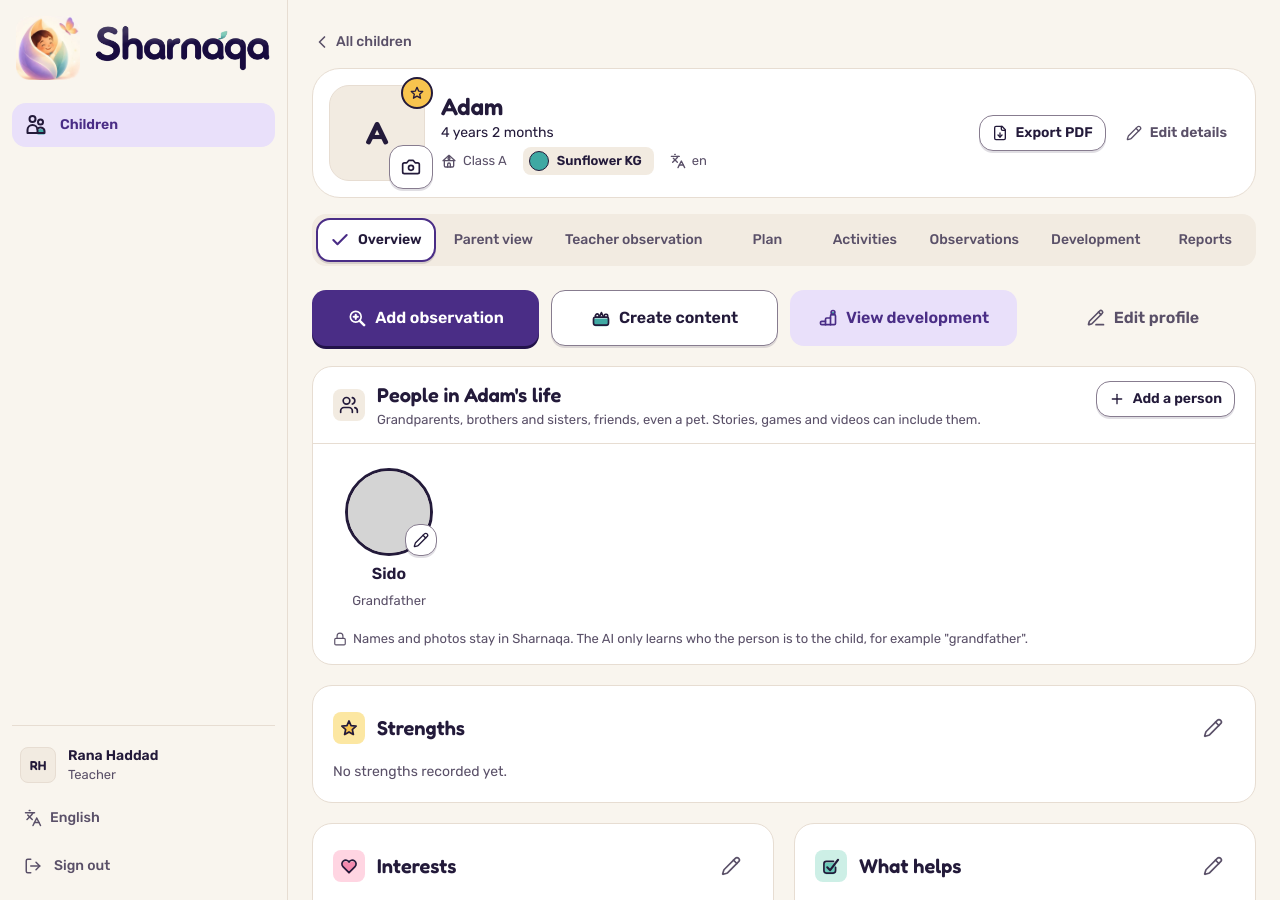
Scenario: PeopleCard on the child Overview › lists the people with their photo or relation icon, and adds a new one
Expected: the heading "People in Adam's life" is shown, x1=377 y1=383 x2=561 y2=407
Expected: the button with test id "person-tile" shows "Sido", x1=333 y1=460 x2=445 y2=618
Click the button with test id "people-add" at (1165, 399), box x1=1096 y1=381 x2=1235 y2=417
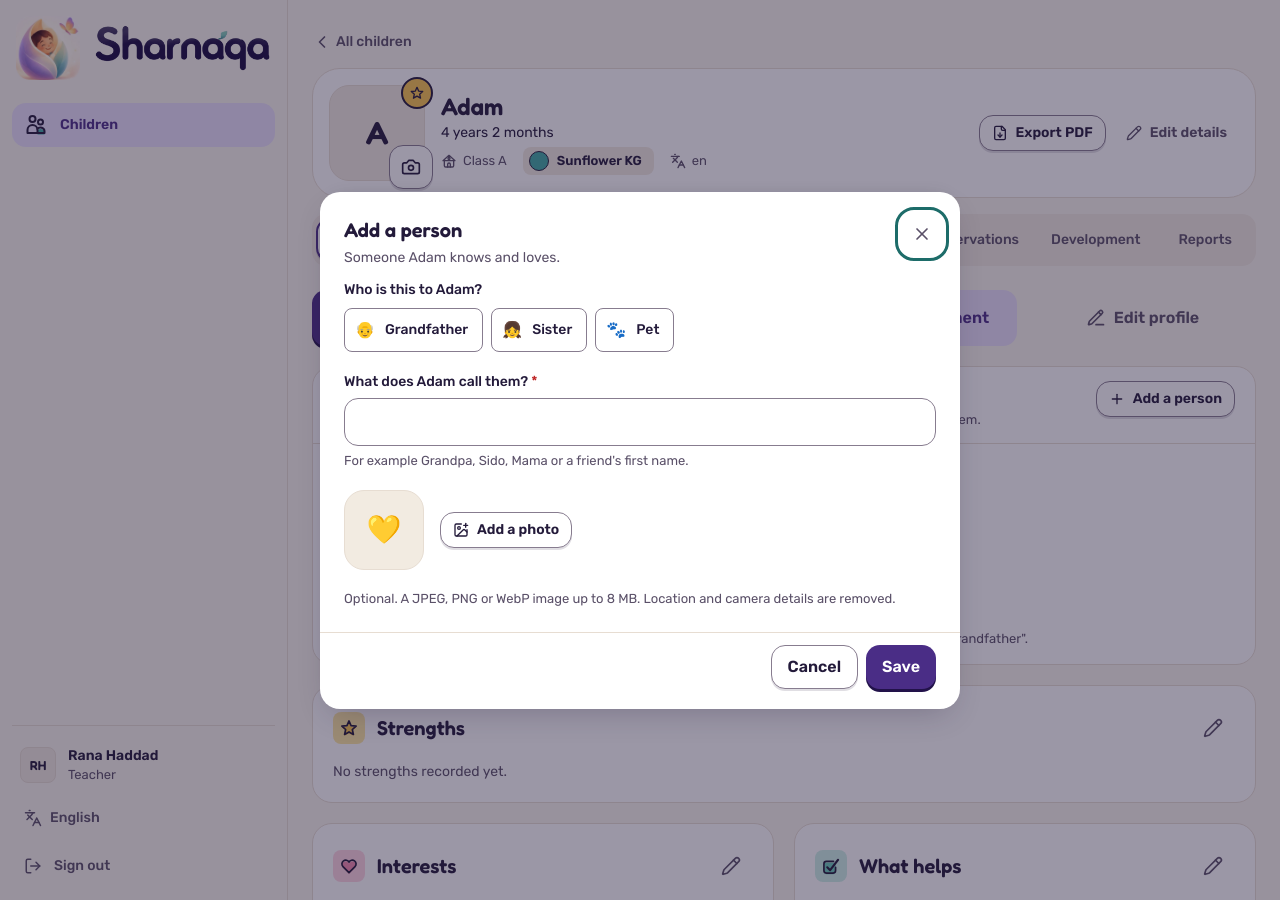
Note: Both a relation and a name are needed.
Click the button with test id "person-save" at (901, 666), box x1=866 y1=644 x2=936 y2=688
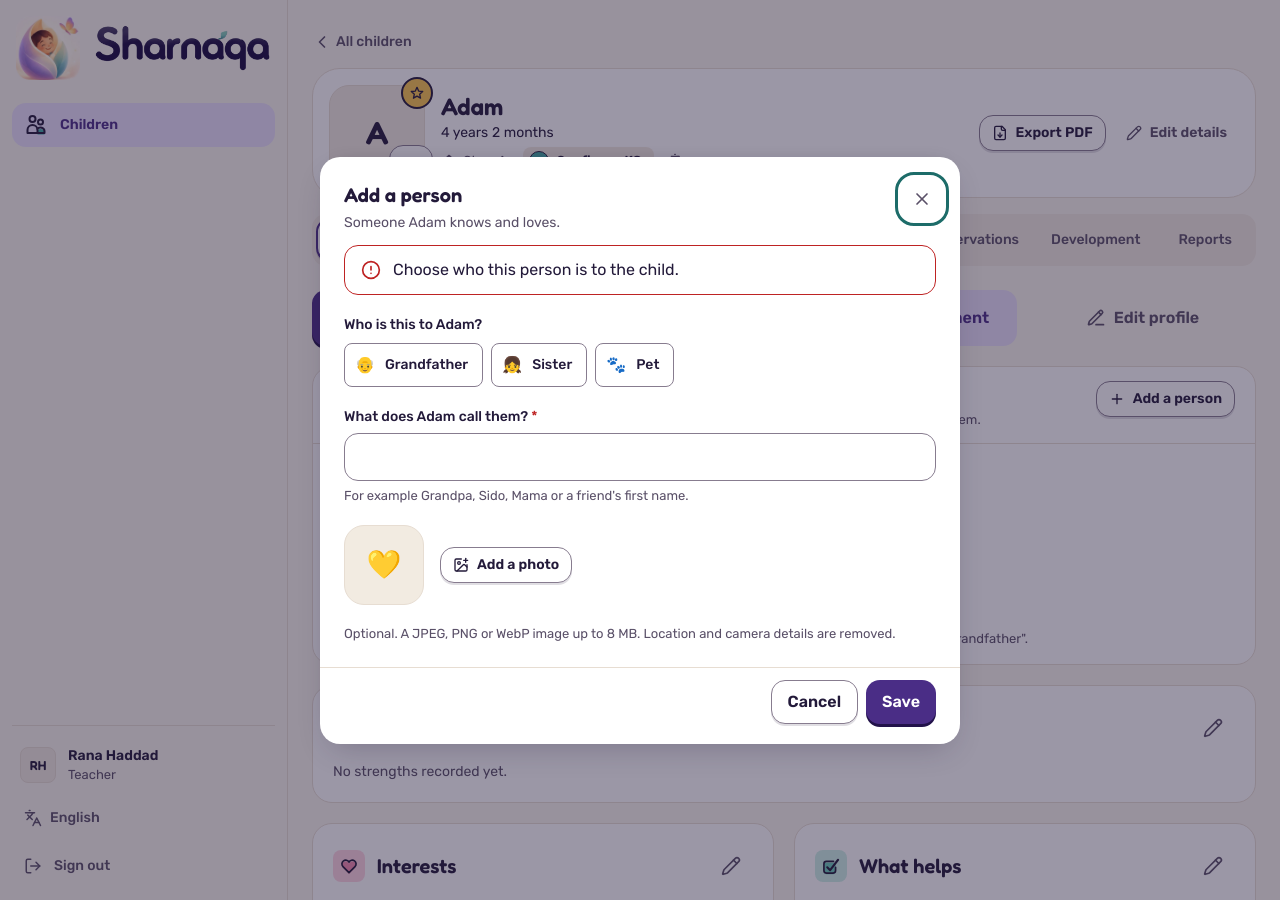
Expected: the text "Choose who this person is to the child." is shown, x1=393 y1=260 x2=679 y2=278
Click the radio button labelled "👧 Sister" at (539, 364), box x1=491 y1=342 x2=587 y2=386
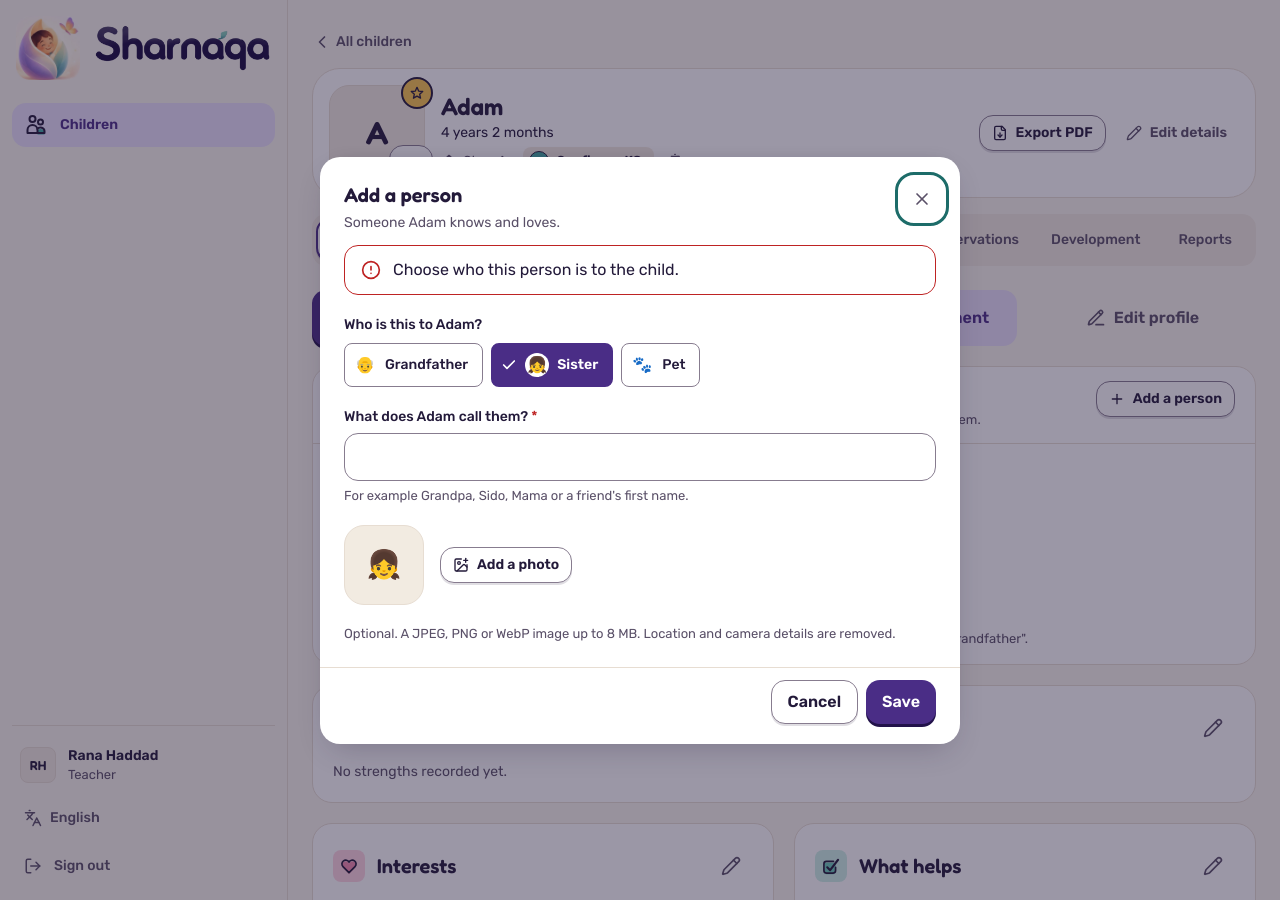
Type "  Lulu " into the field with test id "person-name" at (640, 456), box x1=344 y1=432 x2=936 y2=480
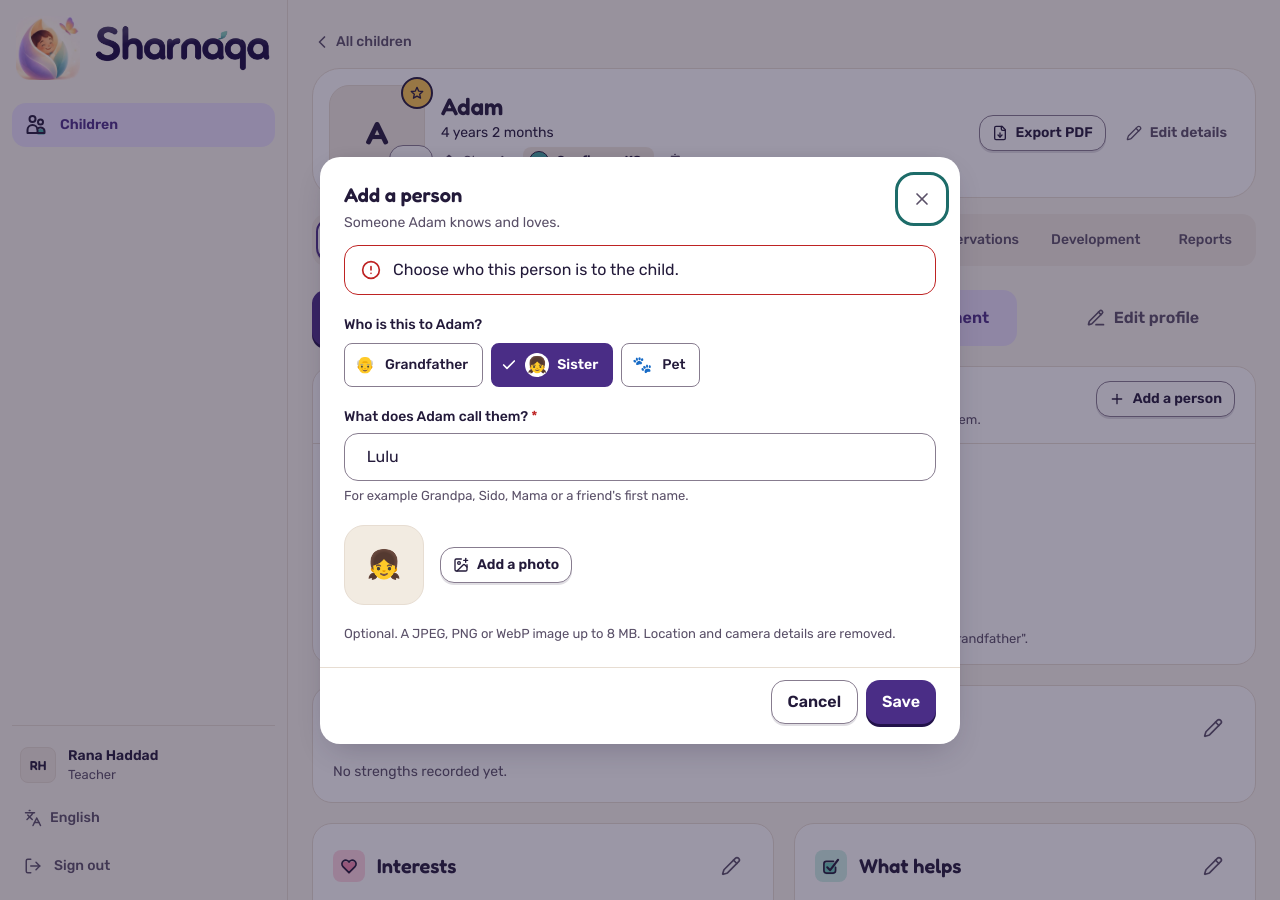
Click the button with test id "person-save" at (901, 702), box x1=866 y1=680 x2=936 y2=724
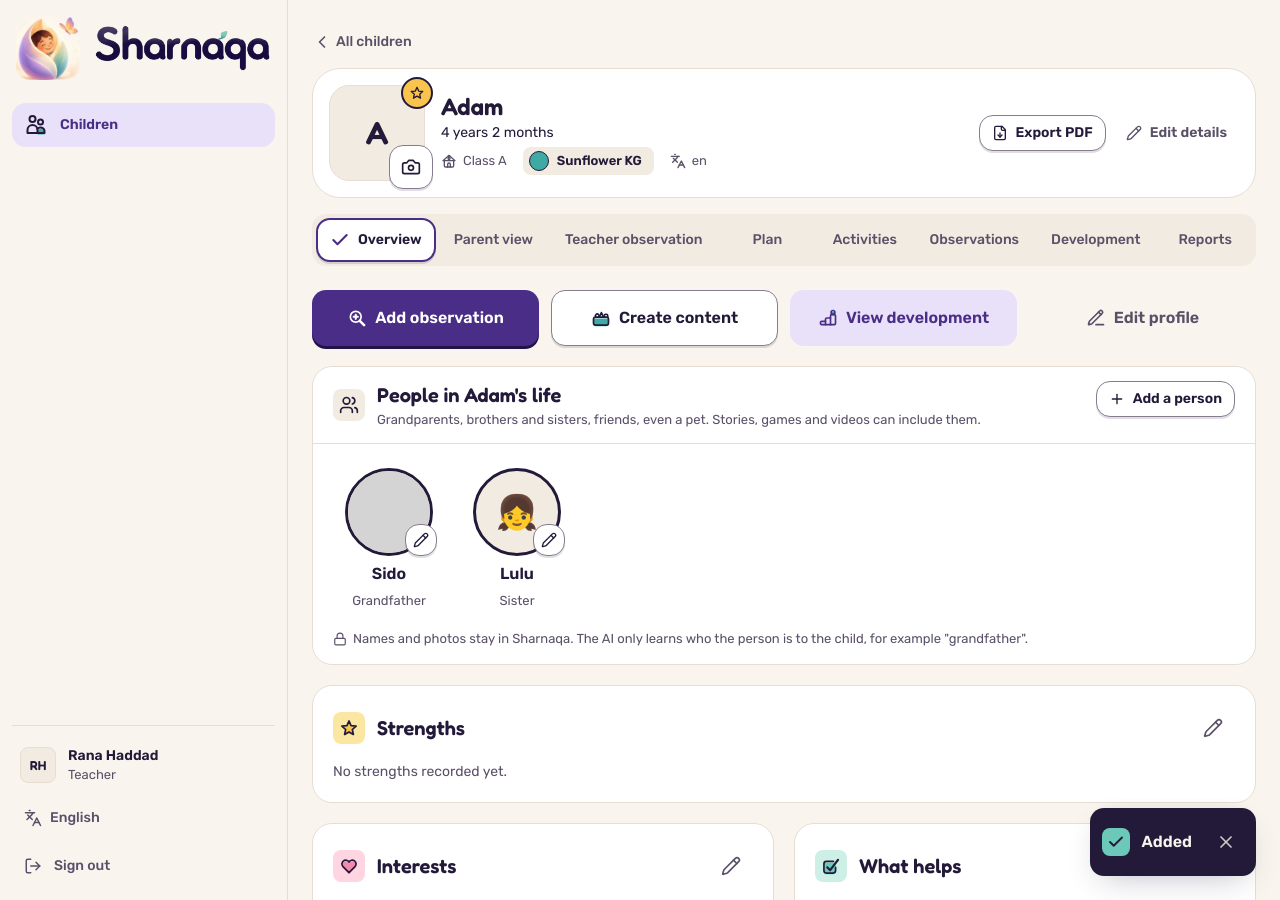
Expected: the number of buttons with test id "person-tile" is 2, x1=333 y1=460 x2=445 y2=618; x1=461 y1=460 x2=573 y2=618
